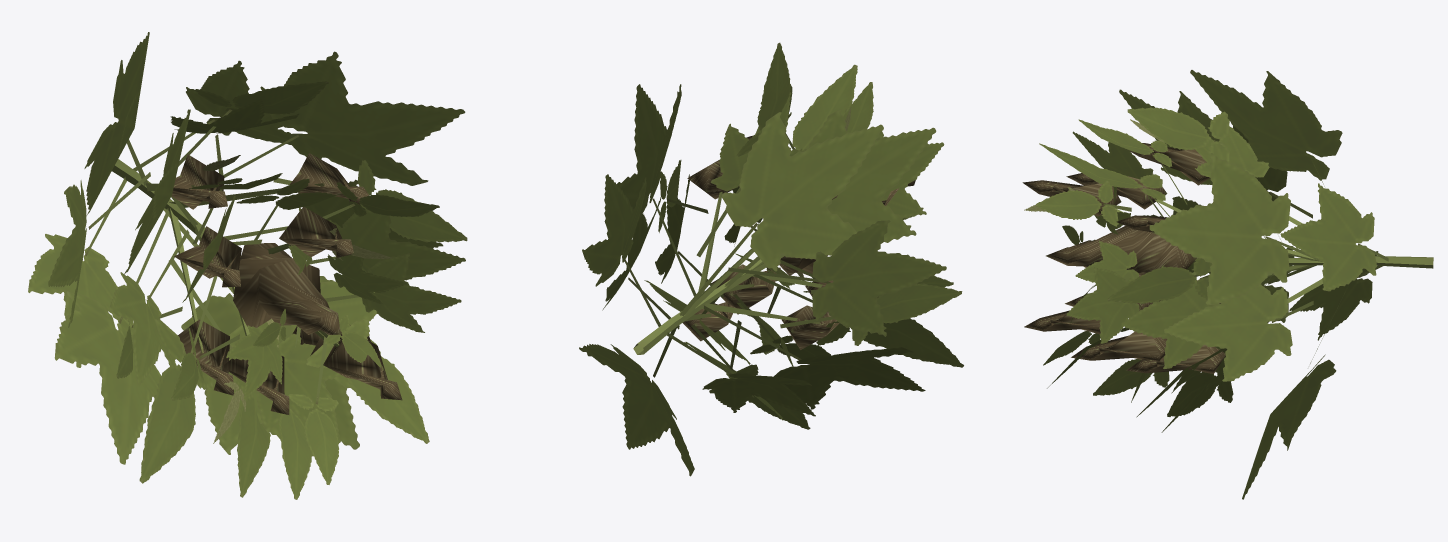
File: p_dark_afghan_flowering_c1_cards.obj
3 views of the same model, side by side, from view 1: azimuth 30°, elevation 25°; view 2: azimuth 150°, elevation 25°; view 3: azimuth 270°, elevation 25° (orthographic). The views are drawn at different scales.
Size of the model in its own units: 1.21 by 1.39 by 1.17.
Materials: 1 (1 with a texture image).
